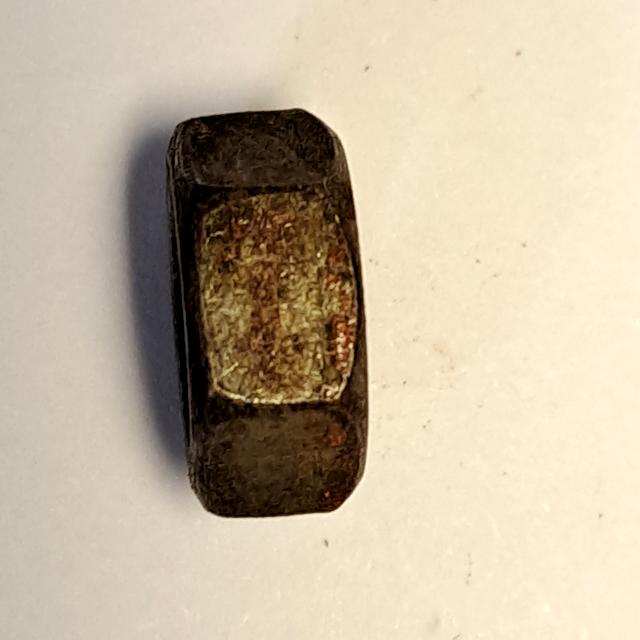Side_Rust: (153, 96, 393, 533)
